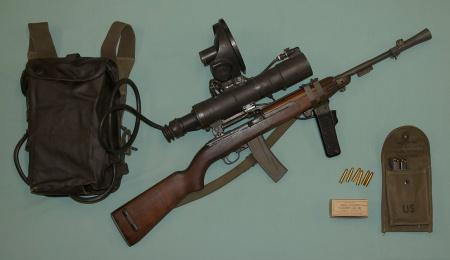rifle: (112, 28, 434, 250)
